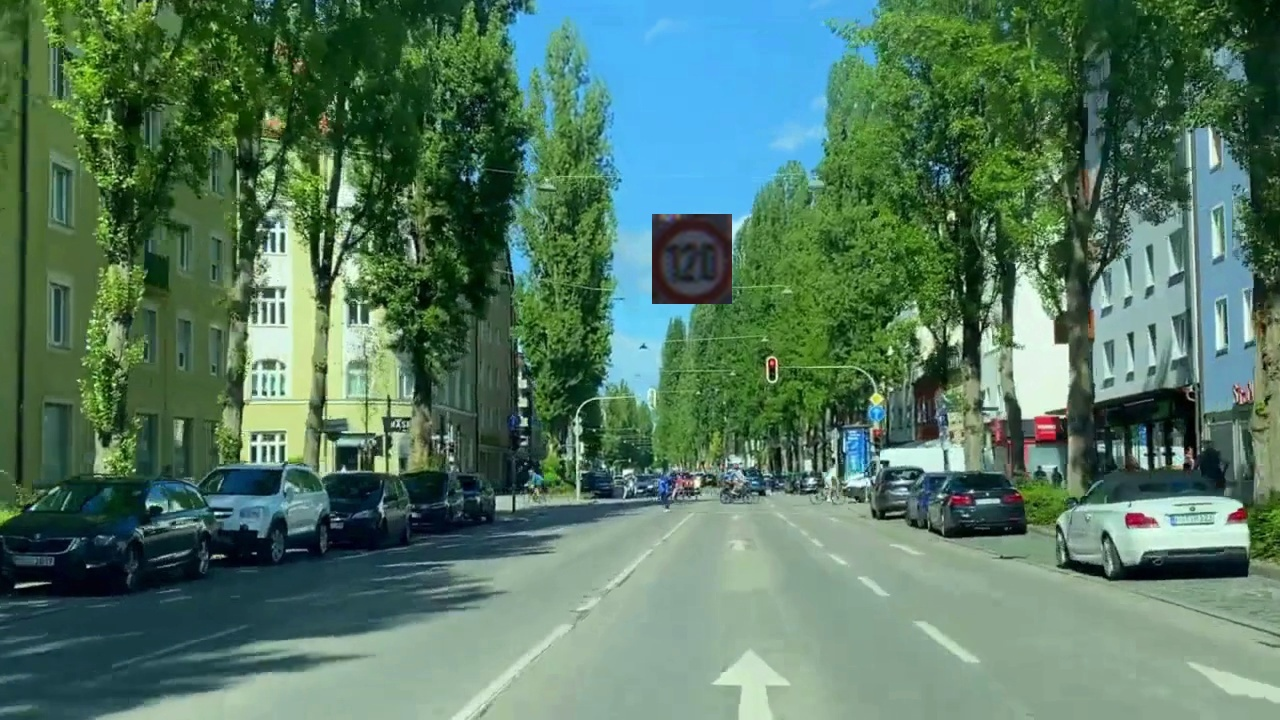Speed 120: (652, 214, 732, 304)
